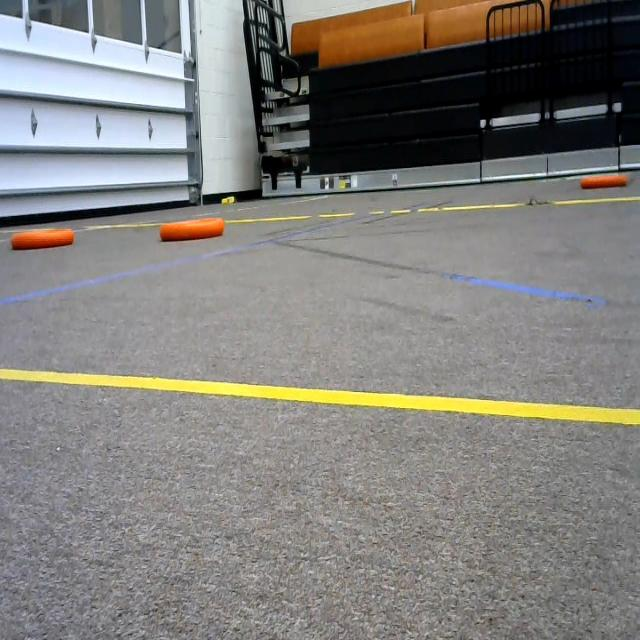note: (159, 205, 229, 254), (10, 223, 76, 254), (577, 168, 627, 191)
